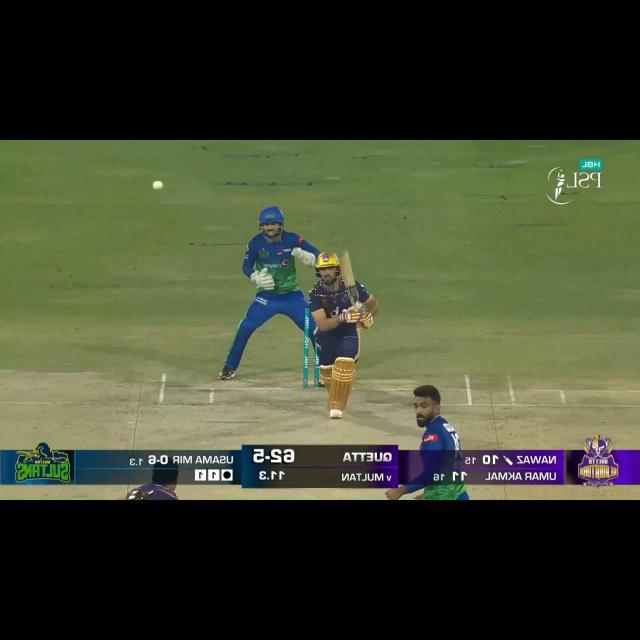bat: (338, 248, 360, 303)
toe: (336, 248, 350, 261)
